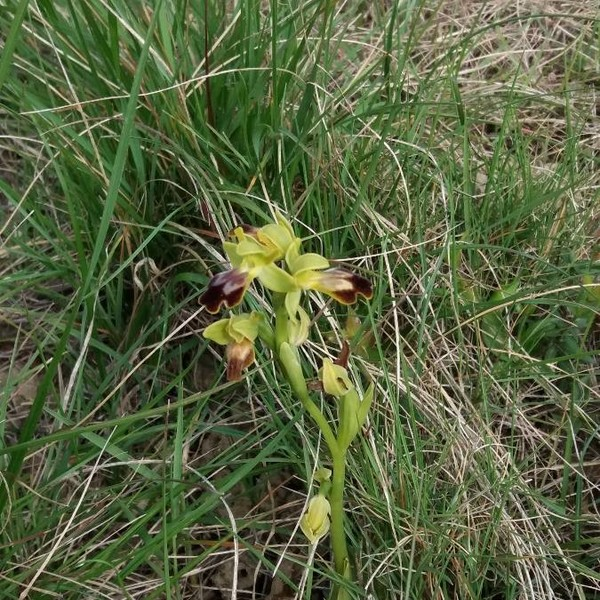obstacle: (37, 65, 542, 548)
